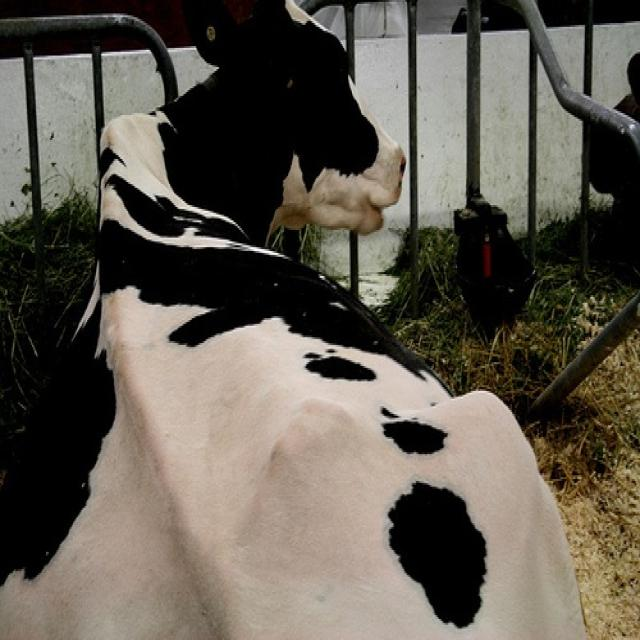cow: (3, 3, 588, 639)
